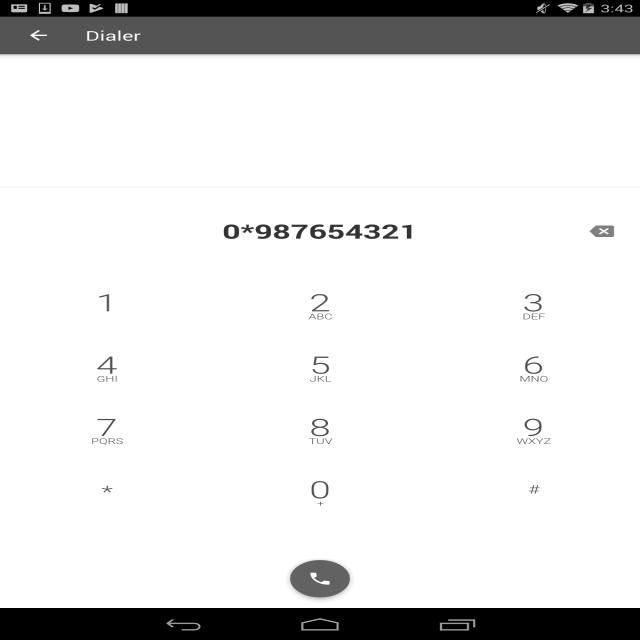ImageButton: (278, 552, 364, 600), (579, 217, 625, 244), (15, 27, 58, 51)
TextView: (199, 214, 424, 246), (294, 289, 369, 330), (506, 408, 563, 446), (76, 26, 158, 49), (296, 476, 348, 506)
